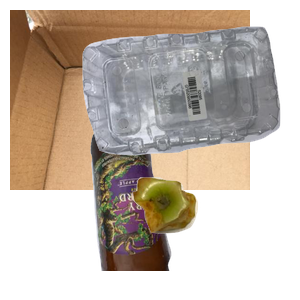cardboard: (10, 10, 250, 190)
glass: (88, 120, 252, 300)
plastic: (80, 24, 300, 172)
trash: (130, 175, 300, 300)
